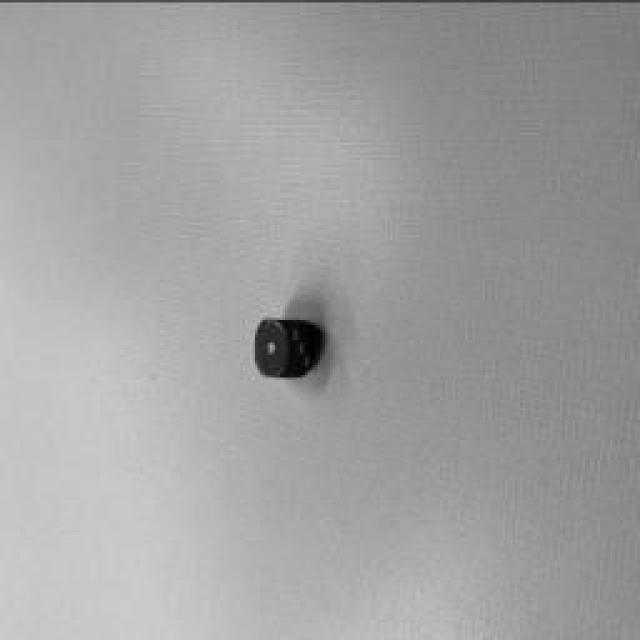dice_1: (255, 318, 290, 378)
